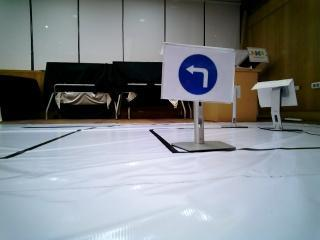left: (164, 44, 233, 103)
